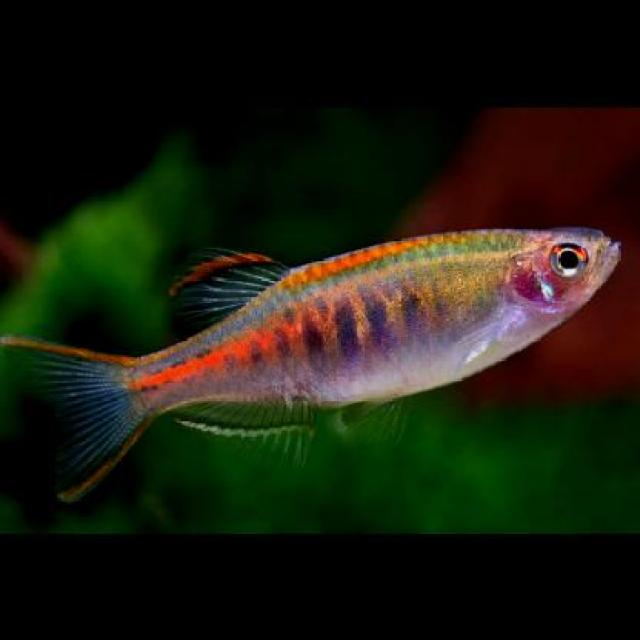ZebraFish: (3, 222, 619, 507)
